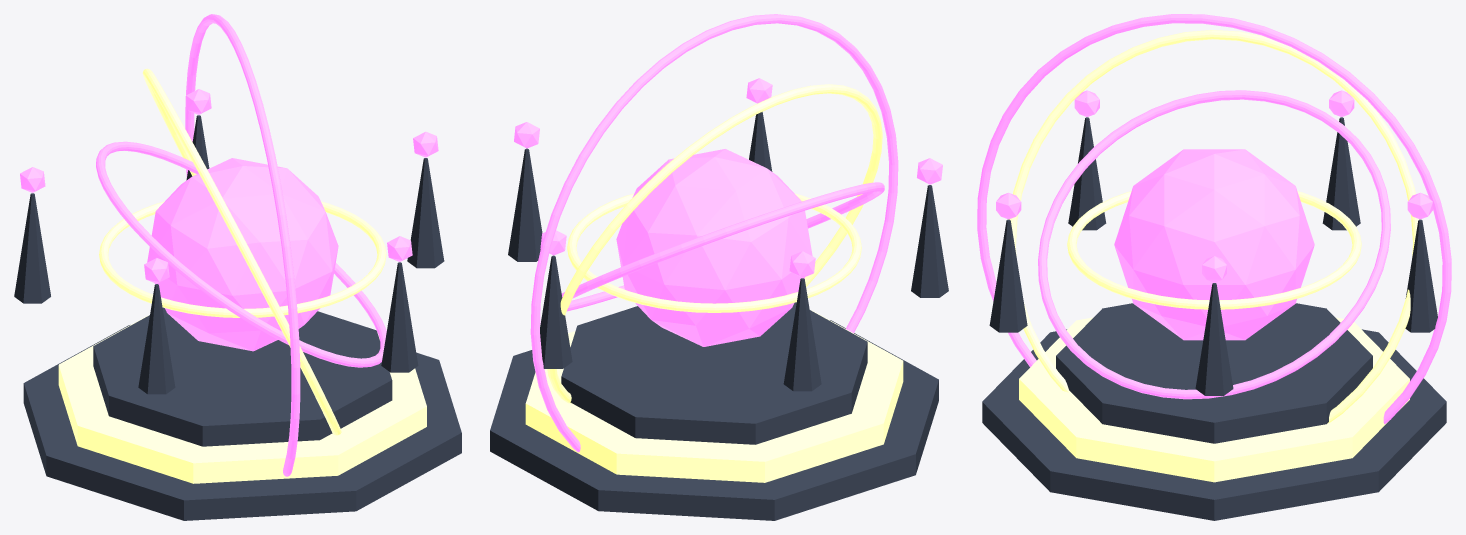
Rendered from gpu-blender-v32.glb.
The picture shows the model from 3 angles, left to right: view 1: azimuth 30°, elevation 25°; view 2: azimuth 150°, elevation 25°; view 3: azimuth 270°, elevation 25°; orthographic projection. The views are drawn at different scales.
Visible parts, largest first — view 1: Cylinder.002, SovereignCore_agent-capsule-jail, Cylinder, Cylinder.001, Torus.003, Torus.001, Torus.002, Torus, Cone.003, Cone.004, Cone.002, Cone (+5 smaller); view 2: Cylinder.002, SovereignCore_agent-capsule-jail, Cylinder, Cylinder.001, Torus.003, Torus.002, Torus, Torus.001, Cone.002, Cone.003, Cone, Cone.001 (+4 smaller); view 3: SovereignCore_agent-capsule-jail, Cylinder.002, Cylinder, Cylinder.001, Torus.003, Torus.001, Torus.002, Torus, Cone.004, Cone, Cone.001, Cone.002 (+2 smaller).
Part boxes in pixels (x1=…): Cylinder.002: x1=93, y1=307, x2=392, y2=446; SovereignCore_agent-capsule-jail: x1=147, y1=158, x2=338, y2=351; Cylinder: x1=23, y1=325, x2=461, y2=520; Cylinder.001: x1=58, y1=315, x2=426, y2=483; Torus.003: x1=185, y1=14, x2=300, y2=476; Torus.001: x1=96, y1=141, x2=386, y2=367; Torus.002: x1=142, y1=68, x2=341, y2=435; Torus: x1=99, y1=201, x2=386, y2=317; Cone.003: x1=138, y1=284, x2=175, y2=394; Cone.004: x1=381, y1=262, x2=418, y2=372; Cone.002: x1=14, y1=193, x2=50, y2=303; Cone: x1=407, y1=158, x2=444, y2=268; Cylinder.002: x1=561, y1=302, x2=867, y2=444; SovereignCore_agent-capsule-jail: x1=616, y1=149, x2=812, y2=346; Cylinder: x1=490, y1=320, x2=938, y2=520; Cylinder.001: x1=525, y1=310, x2=903, y2=482; Torus.003: x1=530, y1=14, x2=898, y2=452; Torus.002: x1=547, y1=84, x2=882, y2=403; Torus: x1=567, y1=193, x2=861, y2=312; Torus.001: x1=561, y1=182, x2=884, y2=311; Cone.002: x1=783, y1=278, x2=821, y2=391; Cone.003: x1=911, y1=185, x2=948, y2=297; Cone: x1=508, y1=148, x2=542, y2=261; Cone.001: x1=540, y1=255, x2=572, y2=368; SovereignCore_agent-capsule-jail: x1=1114, y1=149, x2=1314, y2=340; Cylinder.002: x1=1056, y1=303, x2=1372, y2=443; Cylinder: x1=982, y1=329, x2=1446, y2=520; Cylinder.001: x1=1019, y1=317, x2=1409, y2=482; Torus.003: x1=977, y1=14, x2=1451, y2=424; Torus.001: x1=1038, y1=90, x2=1390, y2=399; Torus.002: x1=1008, y1=30, x2=1420, y2=422; Torus: x1=1067, y1=191, x2=1361, y2=309; Cone.004: x1=989, y1=219, x2=1027, y2=332; Cone: x1=1195, y1=283, x2=1233, y2=395; Cone.001: x1=1405, y1=219, x2=1437, y2=332; Cone.002: x1=1322, y1=117, x2=1360, y2=230.
Size of the model in its own units: 4.41 by 4.7 by 4.49.
